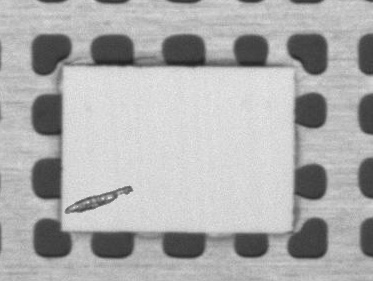DIE_INK: (82, 138, 179, 163)
